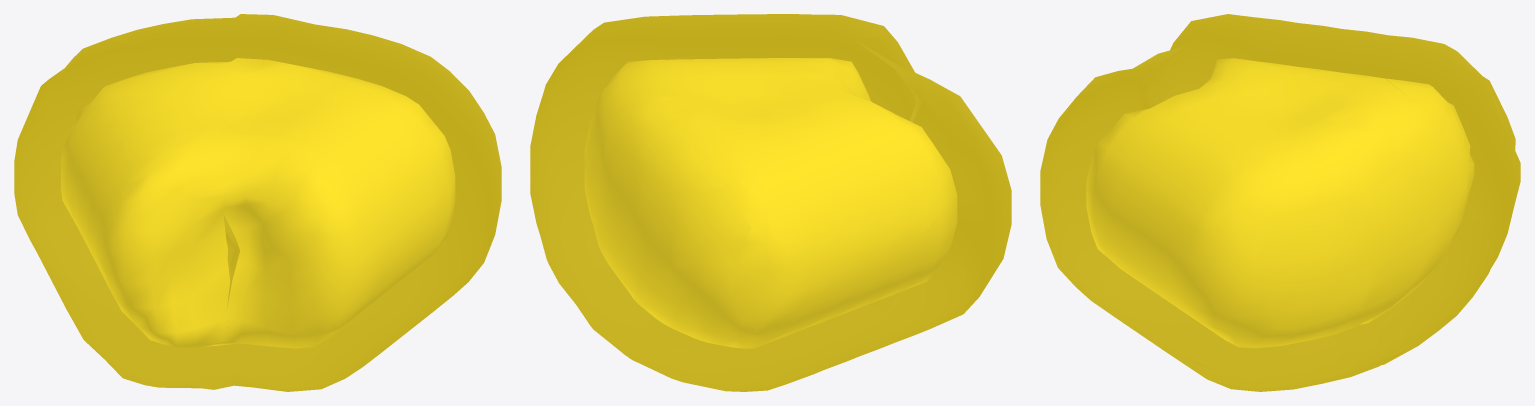
File: corn.glb
3 views of the same model, side by side, from view 1: azimuth 30°, elevation 25°; view 2: azimuth 150°, elevation 25°; view 3: azimuth 270°, elevation 25° (orthographic). The views are drawn at different scales.
Parts seen in each view (by area): view 1: Cylinder.002; view 2: Cylinder.002; view 3: Cylinder.002.
Part boxes in pixels (box(x1,y1,x2,y2)): Cylinder.002: box(14, 14, 501, 391); Cylinder.002: box(530, 14, 1011, 391); Cylinder.002: box(1040, 14, 1520, 391).
Bounding box in the file's own units: 2.4 × 1.54 × 2.37.
